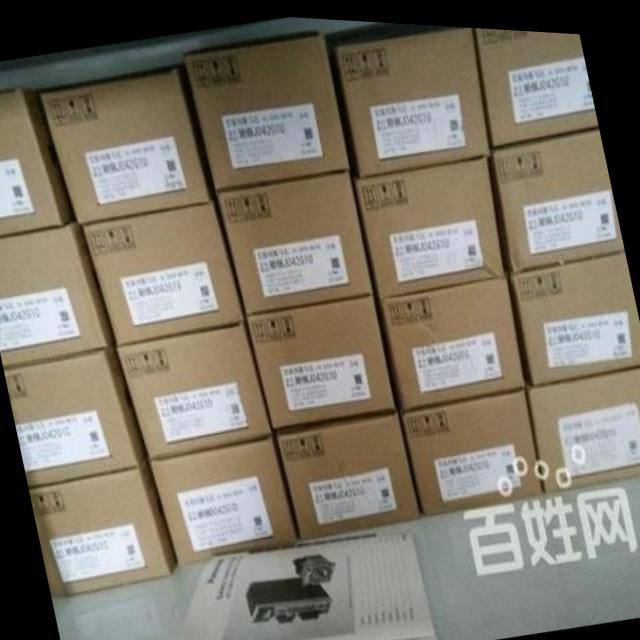box: (38, 61, 216, 223), (183, 25, 349, 187), (324, 18, 491, 173), (81, 190, 242, 343), (217, 166, 373, 310), (119, 312, 271, 459), (350, 150, 504, 294), (31, 453, 175, 598), (149, 428, 298, 566), (6, 340, 147, 485), (380, 270, 526, 407), (491, 117, 623, 268), (248, 292, 395, 427), (400, 382, 543, 509), (505, 244, 640, 378), (277, 408, 420, 534), (0, 219, 115, 367), (473, 22, 597, 141), (525, 356, 640, 484), (0, 87, 76, 237)
